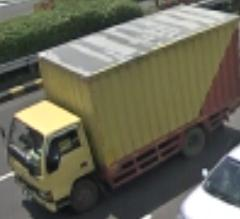truck: (1, 94, 109, 219)
